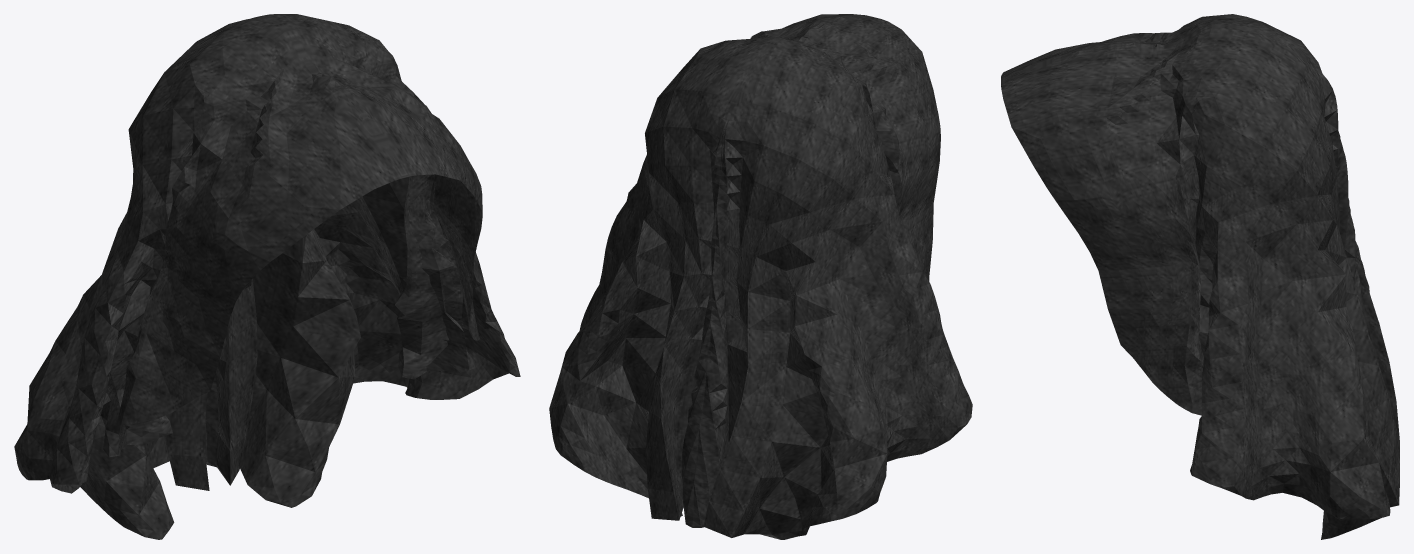
The model's file is mhw_elvs_charity_veil1.glb.
3 renders of one model, left to right at view 1: azimuth 30°, elevation 25°; view 2: azimuth 150°, elevation 25°; view 3: azimuth 270°, elevation 25°, orthographic. The views are drawn at different scales.
Parts seen in each view (by area): view 1: mhw_elvs_charity_veil1; view 2: mhw_elvs_charity_veil1; view 3: mhw_elvs_charity_veil1.
Boxes of the visible parts, x1,y1,x2,y2 form: mhw_elvs_charity_veil1: (14, 14, 520, 539); mhw_elvs_charity_veil1: (549, 14, 972, 539); mhw_elvs_charity_veil1: (1001, 14, 1399, 539).
Size of the model in its own units: 0.3748 by 0.4183 by 0.3121.
1 material, 1 textured.
